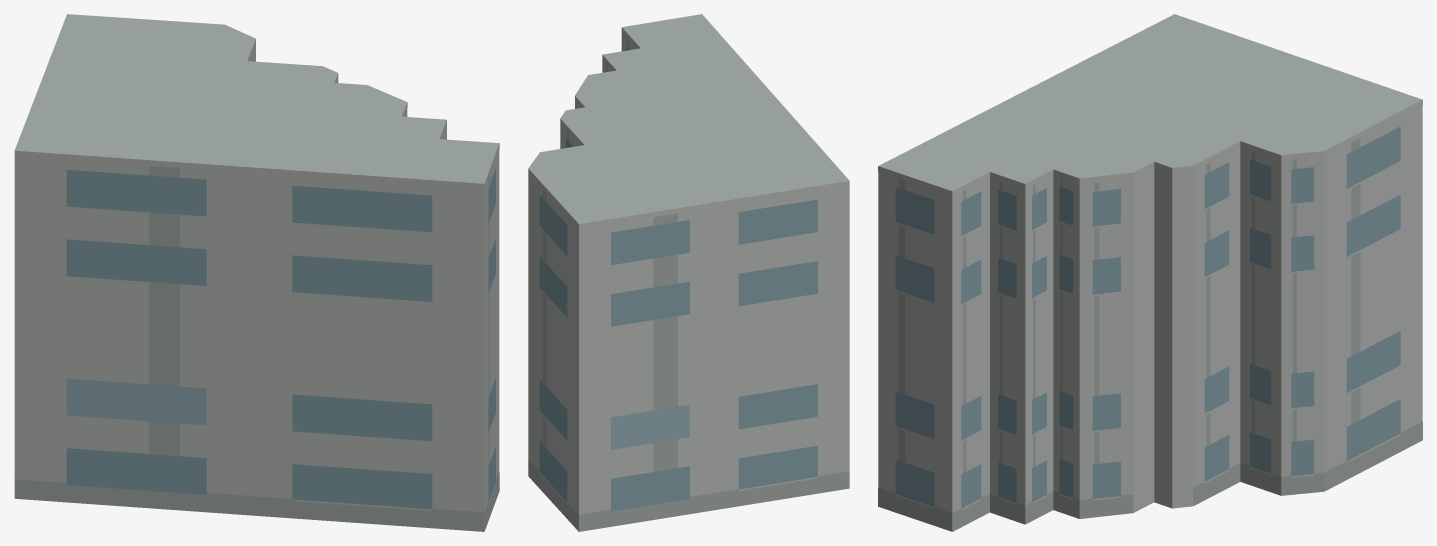
The model's file is survey-upis-32769025.glb.
The picture shows the model from 3 angles, left to right: view 1: azimuth 30°, elevation 25°; view 2: azimuth 150°, elevation 25°; view 3: azimuth 270°, elevation 25°; orthographic projection. The views are drawn at different scales.
Visible parts, largest first — view 1: survey-upis-32769025.tmp; view 2: survey-upis-32769025.tmp; view 3: survey-upis-32769025.tmp.
Part boxes in pixels (x1,y1,x2,y2): survey-upis-32769025.tmp: (14,14,499,531); survey-upis-32769025.tmp: (528,14,849,531); survey-upis-32769025.tmp: (878,14,1422,531).
Bounding box in the file's own units: 16.31 × 14.6 × 21.17.
